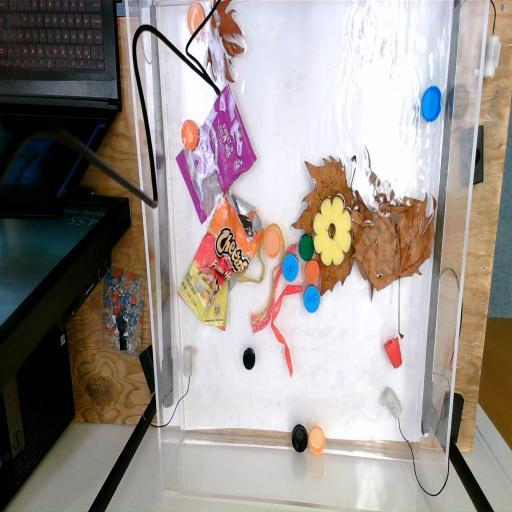Bottle Cap: (420, 84, 442, 126), (184, 3, 208, 40), (180, 117, 200, 152), (302, 281, 322, 314), (264, 228, 282, 260), (308, 426, 326, 456), (298, 232, 314, 264), (282, 252, 299, 282), (291, 424, 308, 454), (304, 258, 320, 286), (242, 348, 256, 370)
Cone Cap: (382, 336, 406, 372)
Leaf: (356, 144, 439, 342), (290, 152, 360, 306), (191, 0, 247, 83)
Netting: (249, 240, 299, 342)
Plastic Bag: (177, 190, 266, 330), (174, 84, 258, 227)
Plastic Strand: (237, 218, 287, 320), (270, 285, 304, 380)
Sponge: (314, 194, 352, 268)
